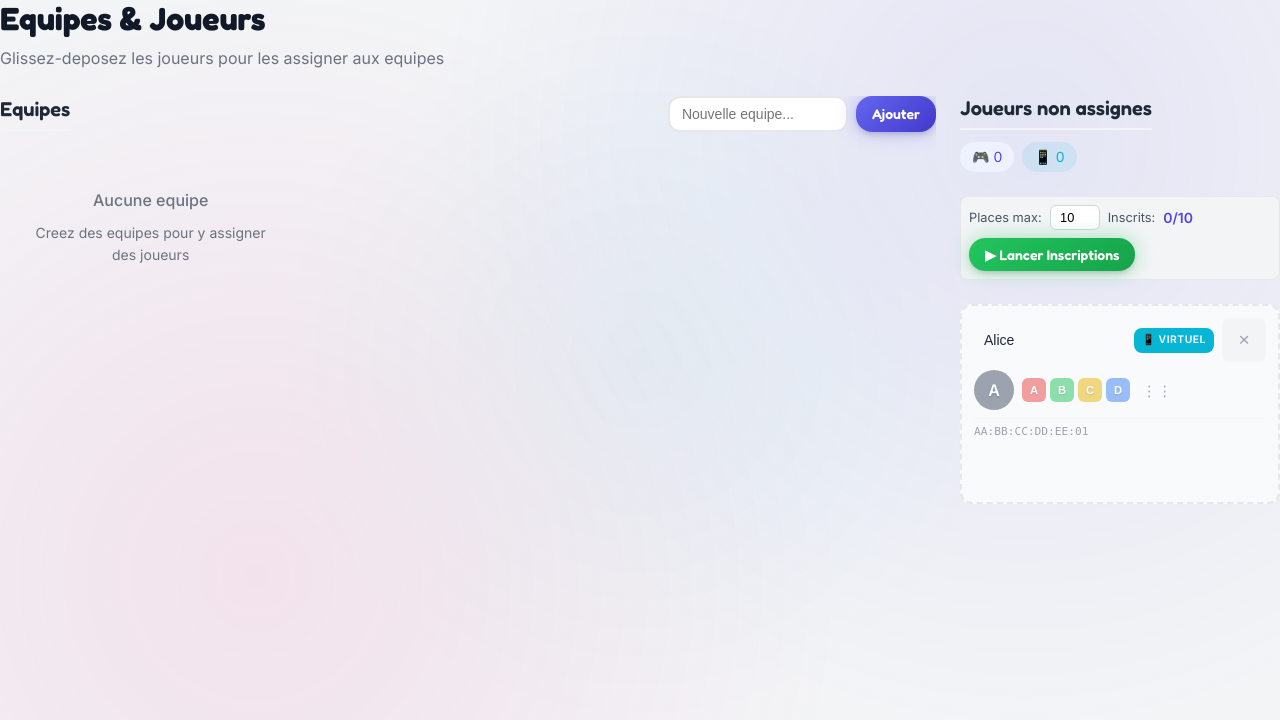
Test: TeamsPage — suppression d'un joueur émet DELETE_BUMPER, pas UPDATE (#123, F1) › fermer la confirmation (croix du dialogue) n'appelle ni deleteBumper ni releaseBumperName
Click the button titled "Supprimer le joueur" at (1244, 340), box x1=1222 y1=318 x2=1266 y2=362
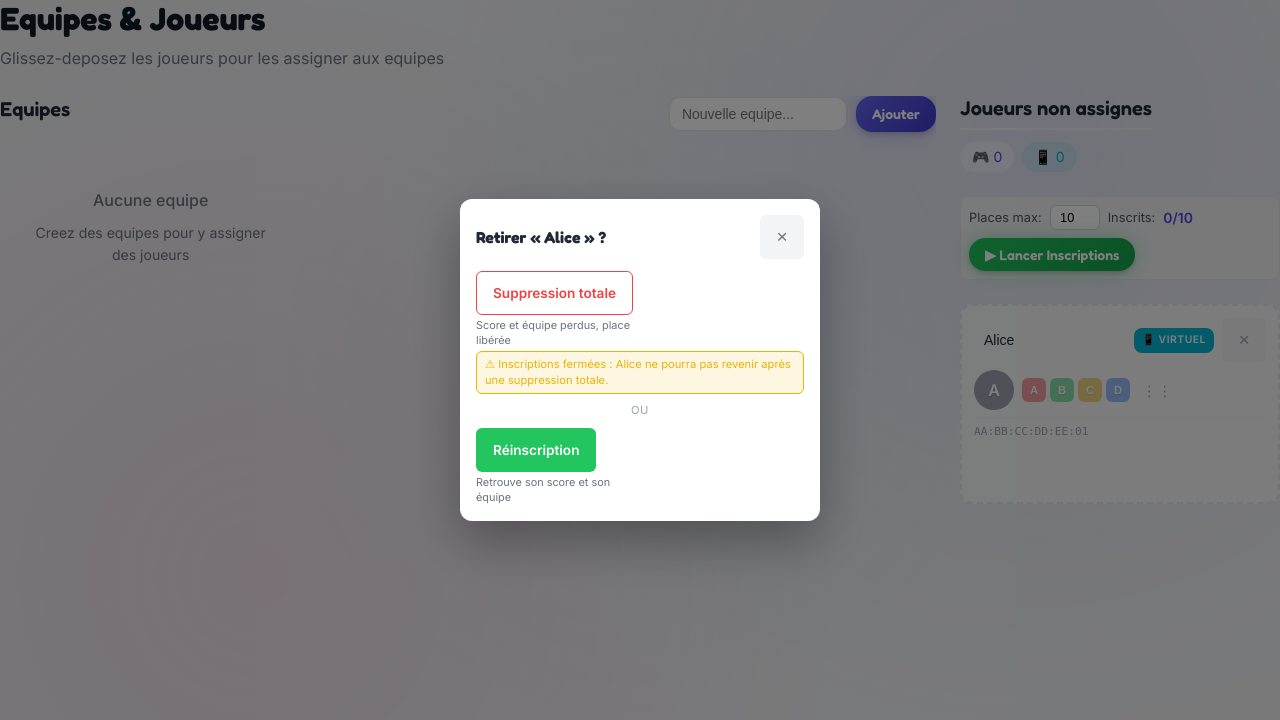
expect the button "Suppression totale" is shown: met, box x1=476 y1=272 x2=633 y2=316
Click the button named "Fermer" at (782, 238), box x1=760 y1=216 x2=804 y2=260
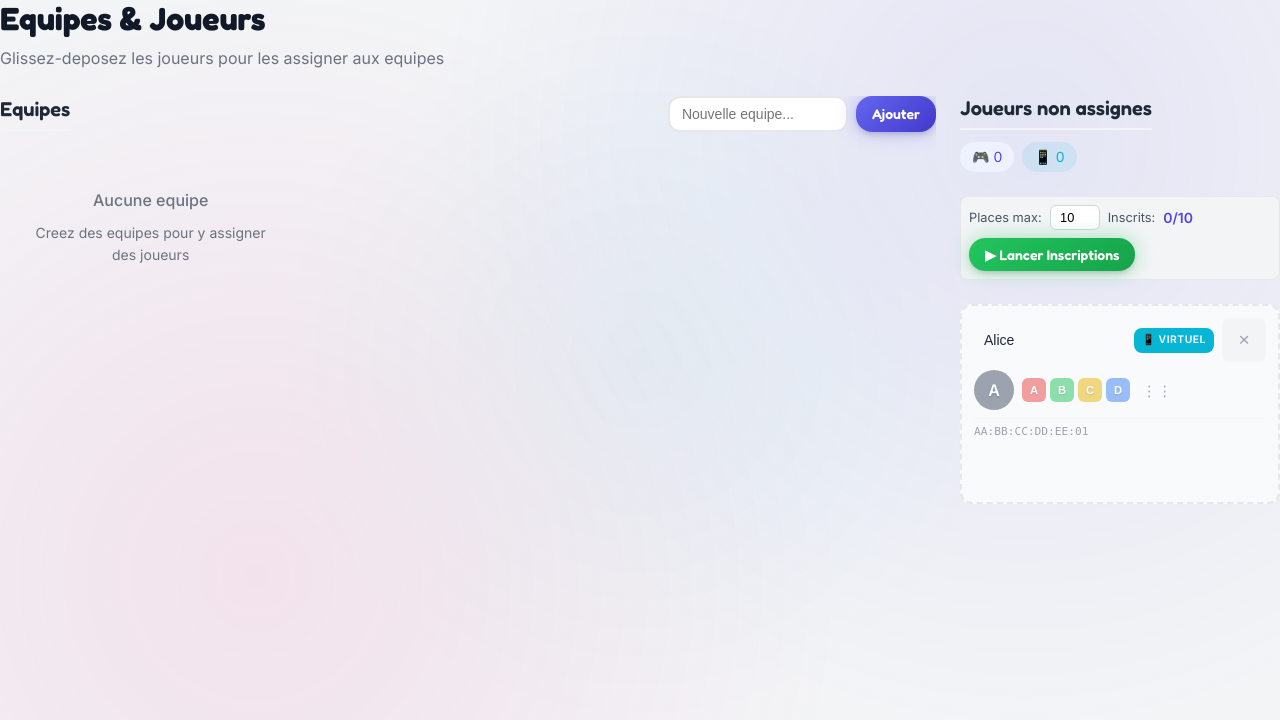
expect the button "Suppression totale" is gone: met
